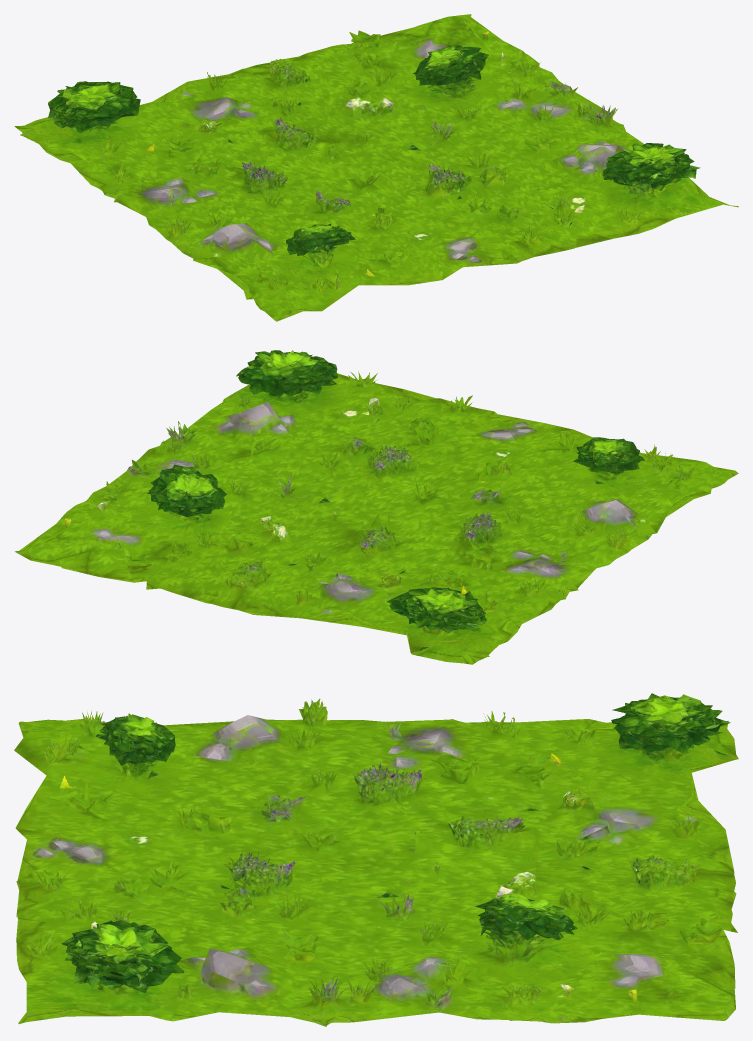
Rendered from grass.glb.
3 views of the same model, one above another, from view 1: azimuth 30°, elevation 25°; view 2: azimuth 150°, elevation 25°; view 3: azimuth 270°, elevation 25° (orthographic). The views are drawn at different scales.
Bounding box in the file's own units: 1.89 × 0.1767 × 1.88.
Materials: 1 (1 with a texture image).
